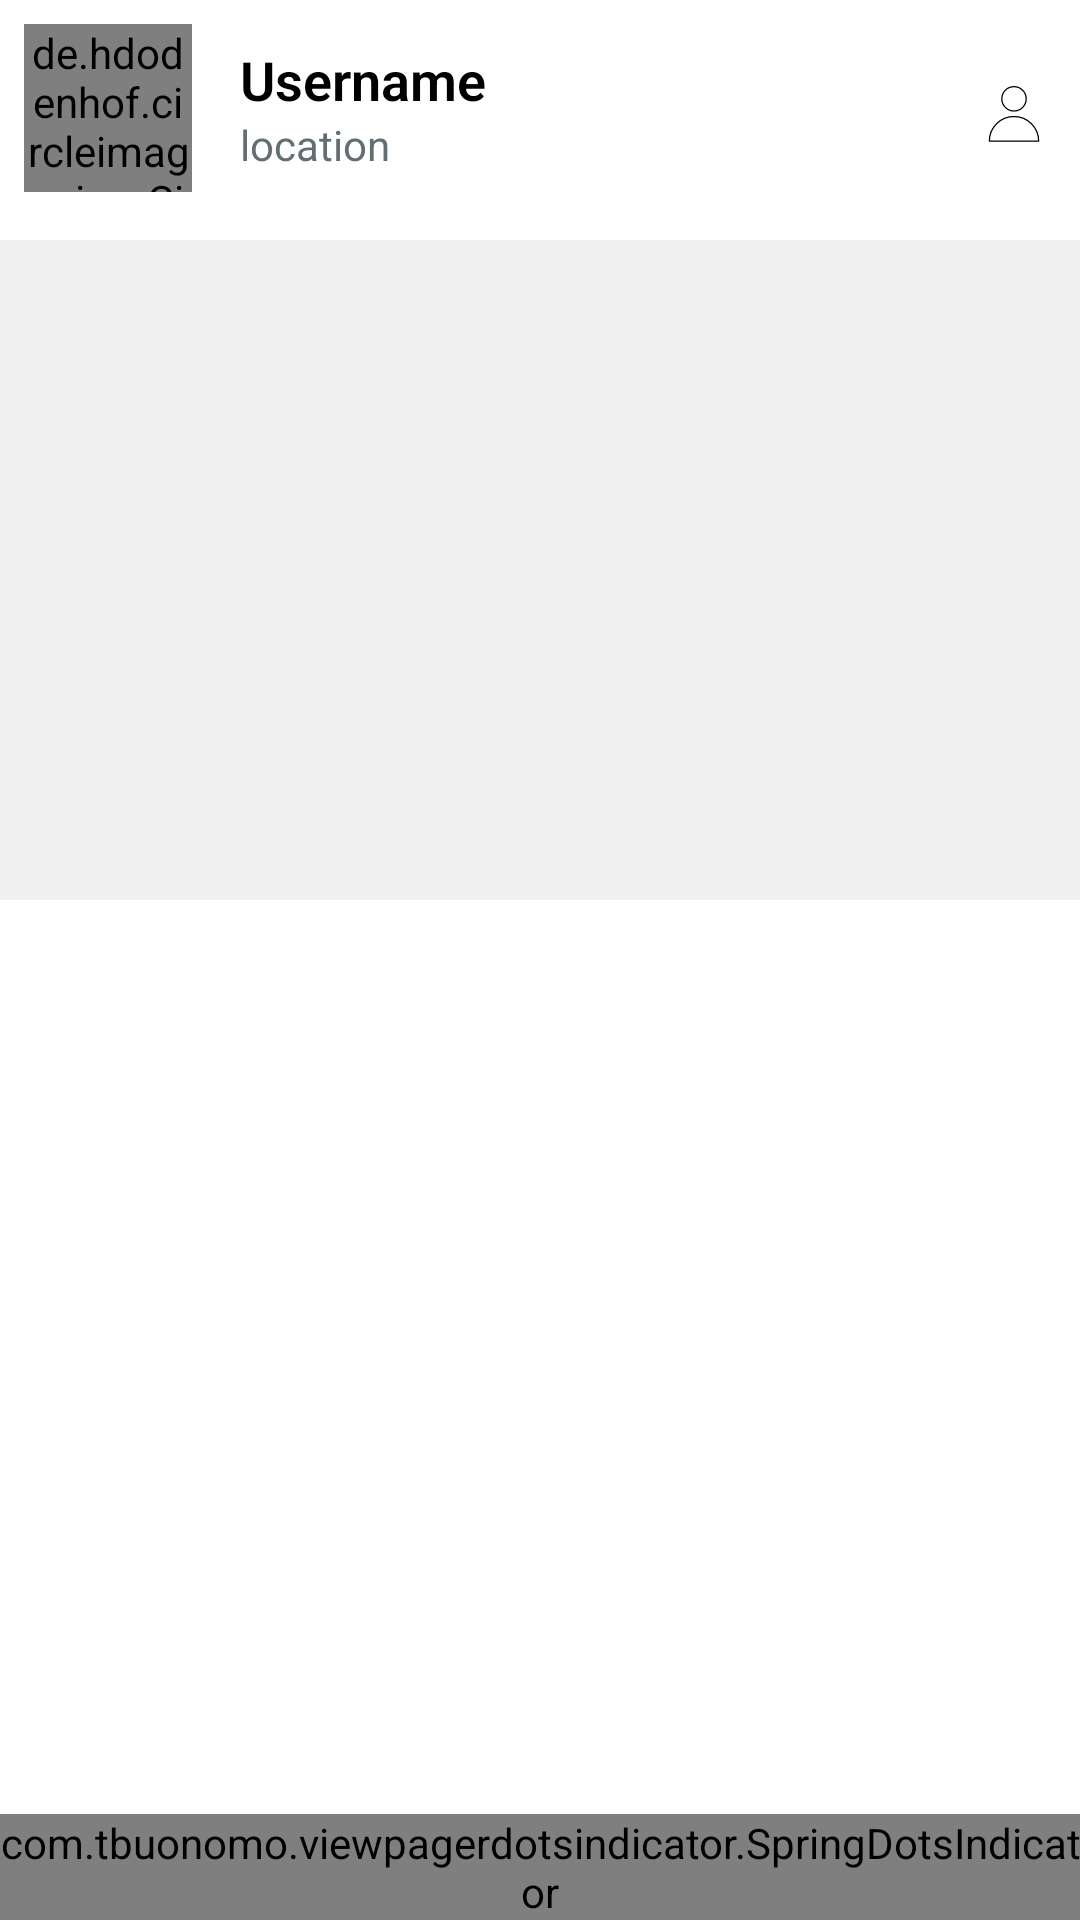

Icon click points for this 1080 x 1920 phone screenshot, format [x,y]:
profile: [1014,114]
